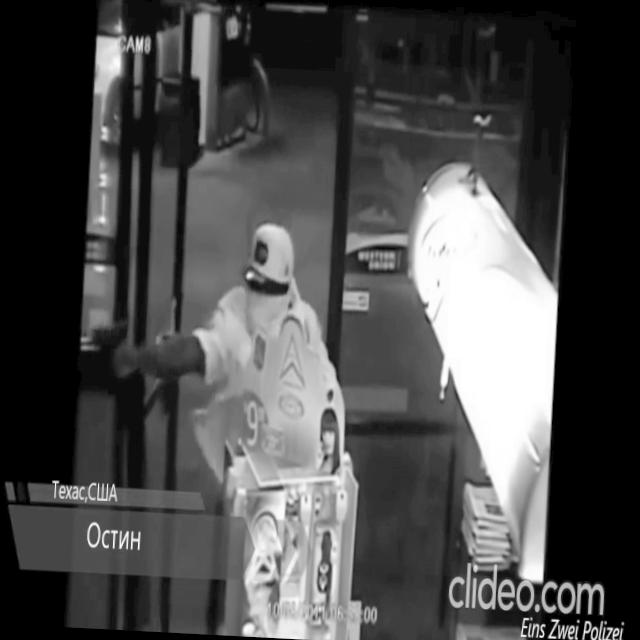gun: (88, 319, 129, 375)
person with a gun: (81, 210, 341, 502)
